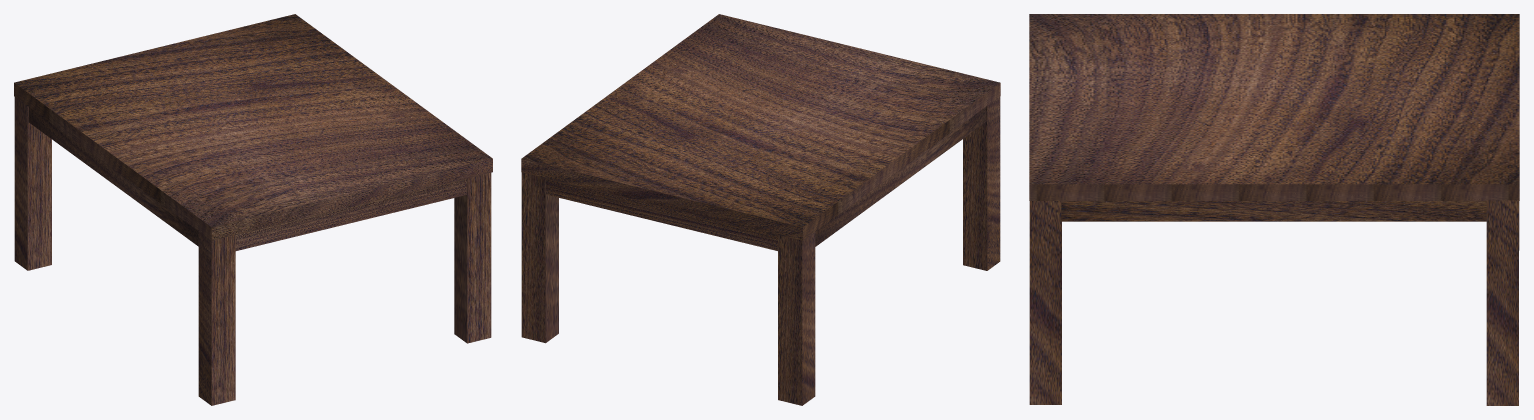
File: Blender CRT TV Table Walnut.glb
3 renders of one model, left to right at view 1: azimuth 30°, elevation 25°; view 2: azimuth 150°, elevation 25°; view 3: azimuth 270°, elevation 25°, orthographic. The views are drawn at different scales.
Parts seen in each view (by area): view 1: Cube.004; view 2: Cube.004; view 3: Cube.004.
Part boxes in pixels (x1,y1,x2,y2): Cube.004: [14, 14, 492, 405]; Cube.004: [521, 14, 1000, 405]; Cube.004: [1029, 14, 1519, 405].
Size of the model in its own units: 12.22 by 7.42 by 14.86.
1 material, 1 textured.
